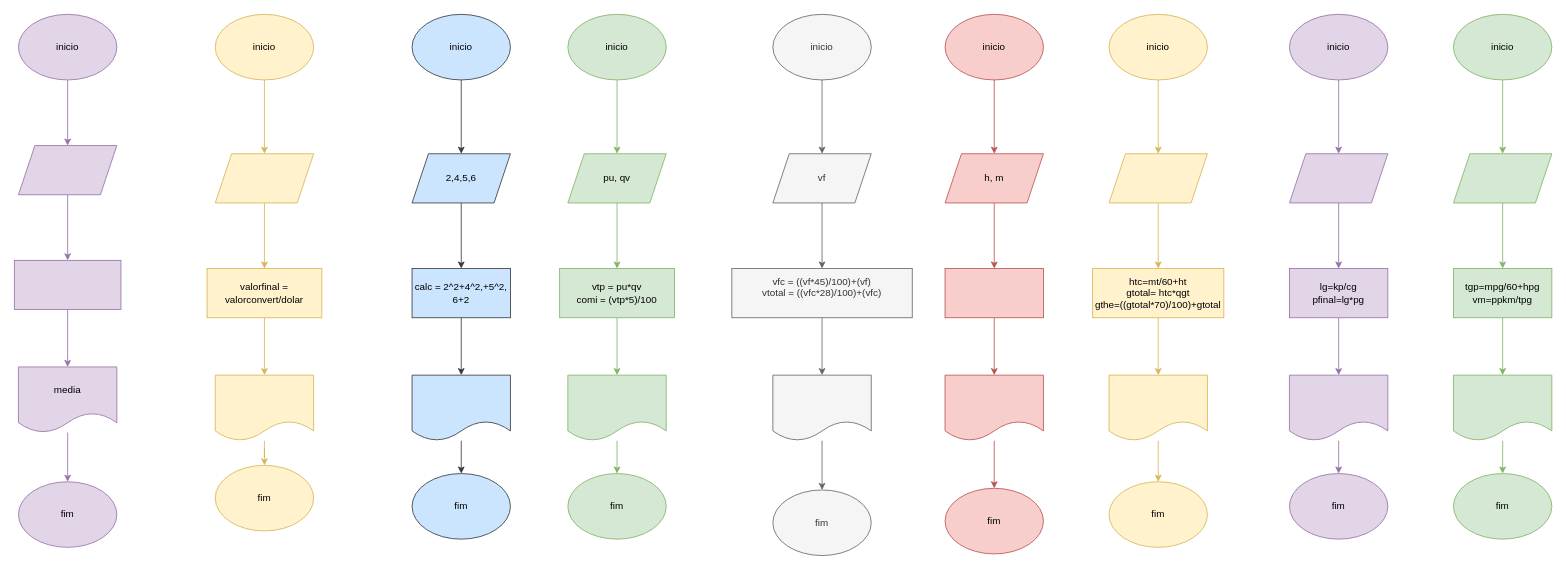
The diagram is 1566 pixels wide and 570 high, and some of its shapes have lost their labels. The shapes that lost their labels are listed below. From the top down, each one's centre as x and y in pixels, then its label:
At pixel 67 170: "p1, p2".
At pixel 264 178: "dolar = 4.5 valorconvert".
At pixel 1157 178: "ht, mt, qgt".
At pixel 1338 178: "kp, cg, pg".
At pixel 1502 178: "ppkm, hgp, mgp".
At pixel 67 285: "media = (p1+p2)/2".
At pixel 993 293: "mconvert = m/60 res= mconvert+h".
At pixel 264 407: "valorfinal".
At pixel 460 407: "calc".
At pixel 616 407: "vtp, comi".
At pixel 821 407: "vtotal".
At pixel 993 407: "res".
At pixel 1157 407: "gthe".
At pixel 1338 407: "pfinal".
At pixel 1502 407: "vm".
